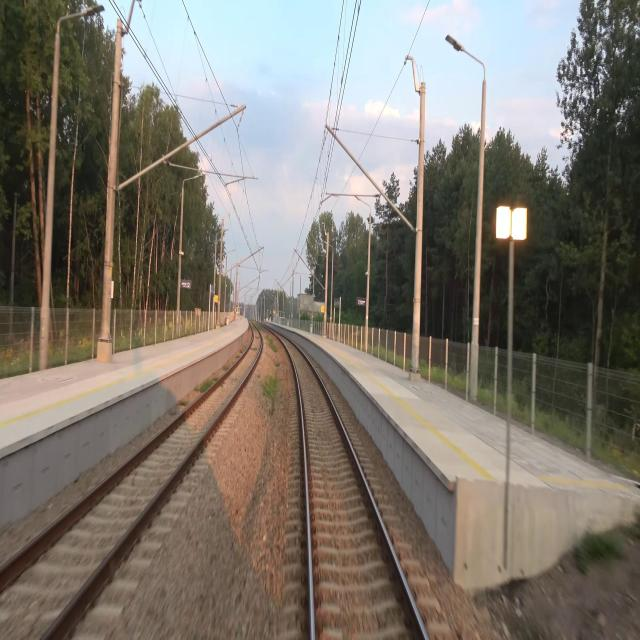rail-track: (0, 325, 260, 639), (282, 337, 424, 639)
